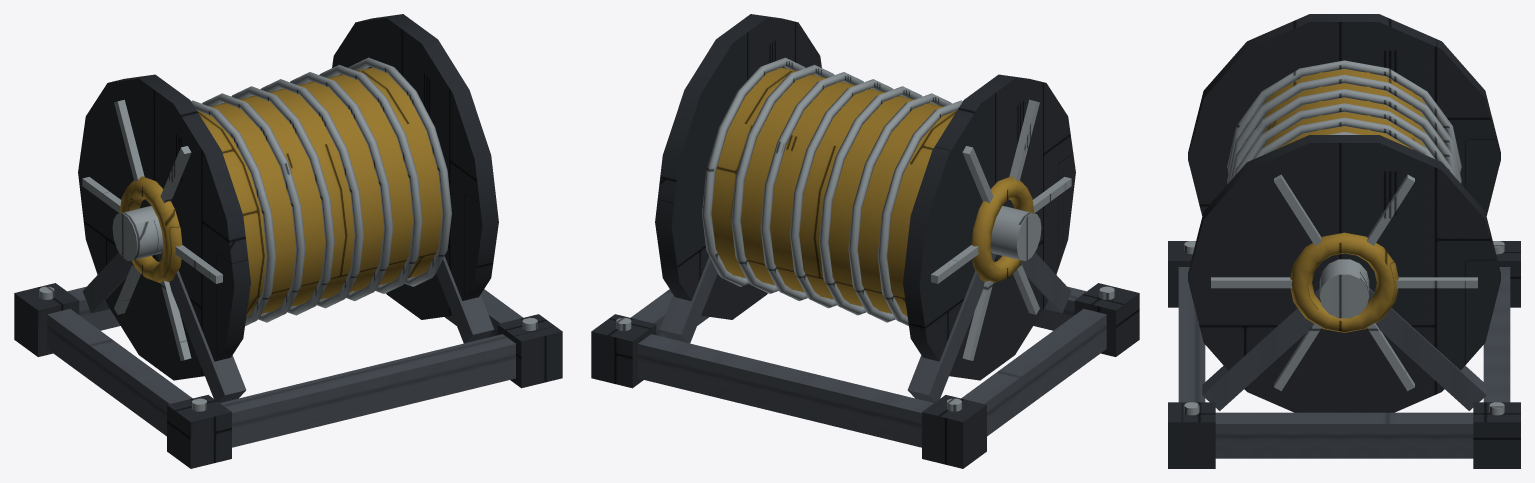
Rendered from cargo-wound-conductor-spool_lod1.glb.
3 renders of one model, left to right at view 1: azimuth 30°, elevation 25°; view 2: azimuth 150°, elevation 25°; view 3: azimuth 270°, elevation 25°, orthographic.
Visible parts, largest first — view 1: LOD1_Armor, LOD1_Livery, LOD1_Mechanical, LOD1_BrushedMetal; view 2: LOD1_Armor, LOD1_Livery, LOD1_Mechanical, LOD1_BrushedMetal; view 3: LOD1_Armor, LOD1_Mechanical, LOD1_BrushedMetal, LOD1_Livery.
Part boxes in pixels (box(x1,y1,x2,y2)): LOD1_Armor: box(14, 14, 562, 468); LOD1_Livery: box(119, 67, 442, 316); LOD1_Mechanical: box(47, 252, 523, 447); LOD1_BrushedMetal: box(39, 57, 537, 411); LOD1_Armor: box(591, 14, 1139, 468); LOD1_Livery: box(711, 67, 1034, 316); LOD1_Mechanical: box(630, 252, 1106, 447); LOD1_BrushedMetal: box(616, 57, 1114, 411); LOD1_Armor: box(1168, 14, 1520, 468); LOD1_Mechanical: box(1178, 267, 1510, 458); LOD1_BrushedMetal: box(1184, 60, 1504, 415); LOD1_Livery: box(1246, 69, 1442, 332).
Size of the model in its own units: 2.25 by 1.73 by 1.85.
4 materials, 4 textured.
